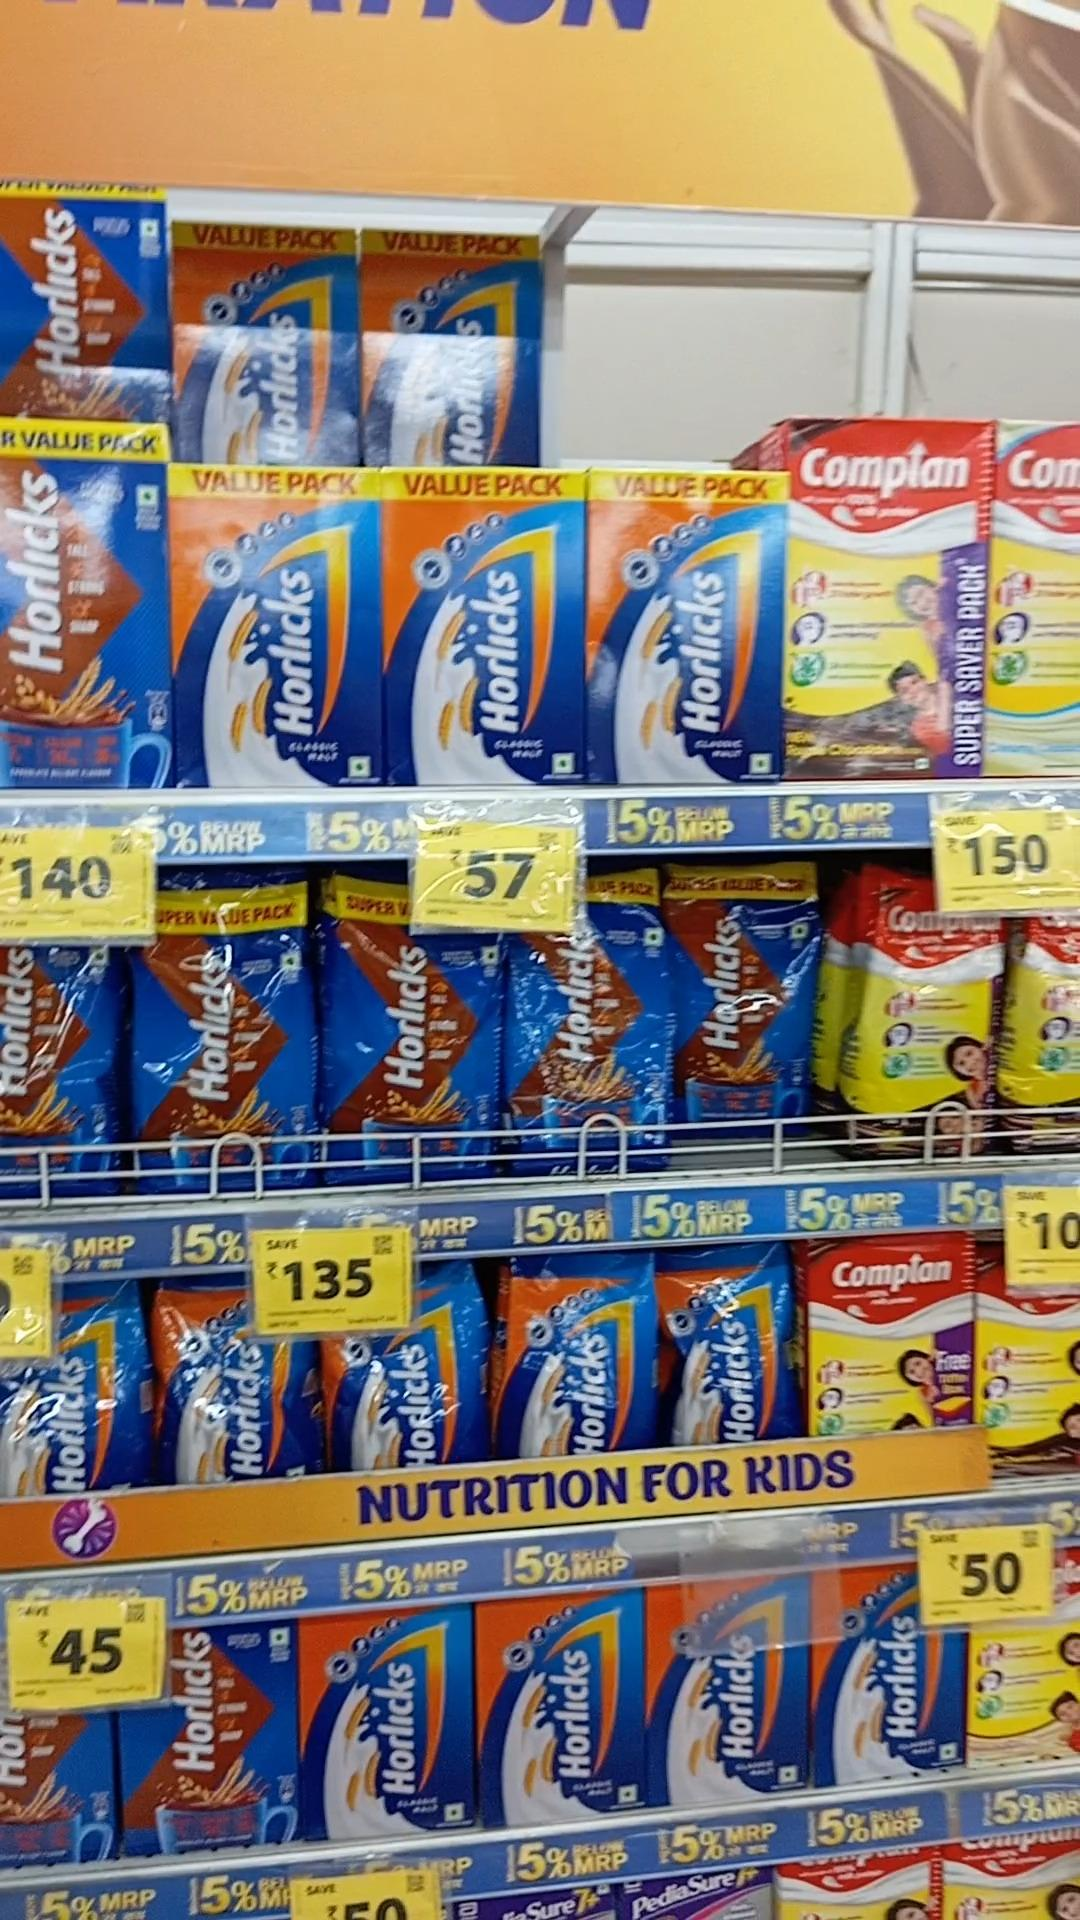COMPLAN_CHOCOLATE_1_KG_PACK: (783, 417, 981, 775)
COMPLAN_CHOCOLATE_500_GMS_PACK: (804, 1242, 973, 1436)
COMPLAN_RC_POUCH_700_GMS_12: (873, 878, 994, 1156)
HORLICK_CHOCOLATE_1_KG_PACK: (0, 423, 174, 793), (0, 182, 174, 423)
HORLICK_CHOCOLATE_500_G_PACK: (128, 1623, 299, 1861)
HORLICK_CHOCOLATE_750_G_POUCH: (128, 870, 305, 1191), (322, 885, 493, 1189), (504, 873, 671, 1175), (670, 864, 818, 1138)
HORLICK_CLASSIC_MALT_500_G_PACK: (303, 1607, 468, 1840), (483, 1597, 642, 1832), (653, 1584, 808, 1811), (814, 1569, 964, 1783)
HORLICK_CLASSIC_MALT_750_G_POUCH: (496, 1251, 646, 1474), (328, 1267, 480, 1470), (153, 1278, 299, 1480), (653, 1250, 796, 1443)
